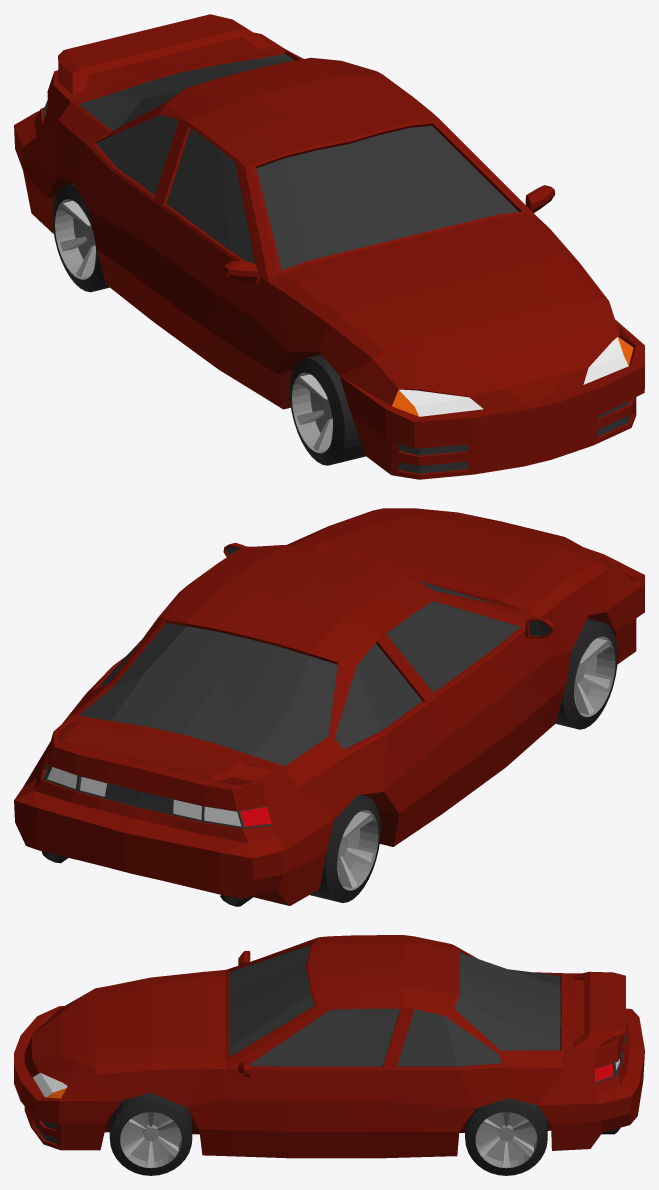
Rendered from jdm5.glb.
The picture shows the model from 3 angles, top to bottom: view 1: azimuth 30°, elevation 25°; view 2: azimuth 150°, elevation 25°; view 3: azimuth 270°, elevation 25°; orthographic projection. The views are drawn at different scales.
Visible parts, largest first — view 1: Car, wheel_front_L, wheel_rear_L; view 2: Car, wheel_rear_L, wheel_front_L; view 3: Car, wheel_front_R, wheel_rear_R.
Boxes of the visible parts, x1,y1,x2,y2 form: Car: (14, 14, 644, 479); wheel_front_L: (289, 354, 365, 465); wheel_rear_L: (52, 183, 109, 292); Car: (14, 508, 644, 906); wheel_rear_L: (310, 794, 380, 902); wheel_front_L: (555, 618, 617, 729); Car: (14, 935, 644, 1158); wheel_front_R: (109, 1093, 192, 1175); wheel_rear_R: (465, 1098, 547, 1175).
Size of the model in its own units: 2.06 by 1.3 by 4.58.
